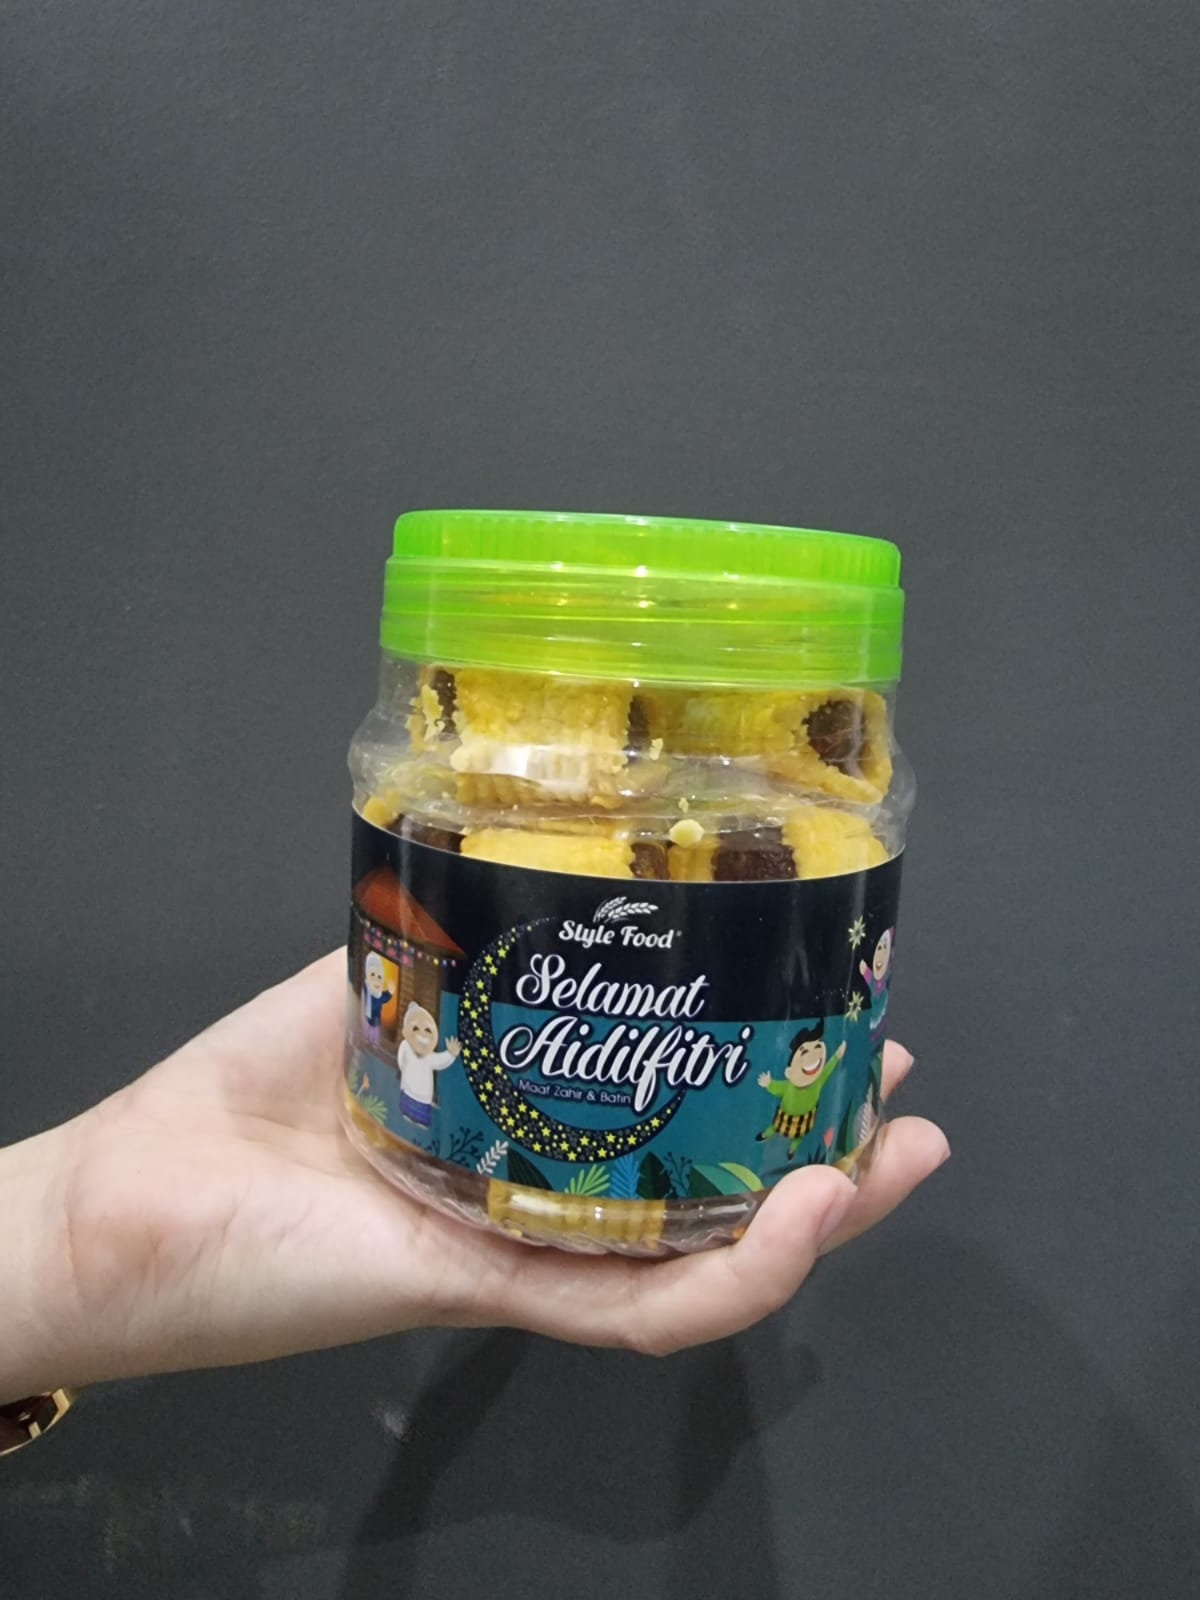Biscuits: (395, 557, 880, 1194)
